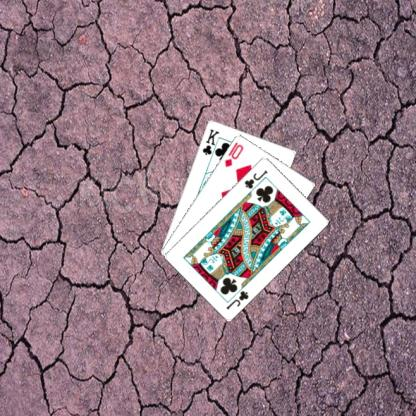10D: (222, 139, 245, 168)
JC: (242, 167, 269, 190), (223, 288, 250, 310)
KC: (200, 126, 221, 160)
